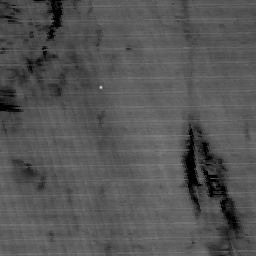Target: (97, 84, 103, 91)
